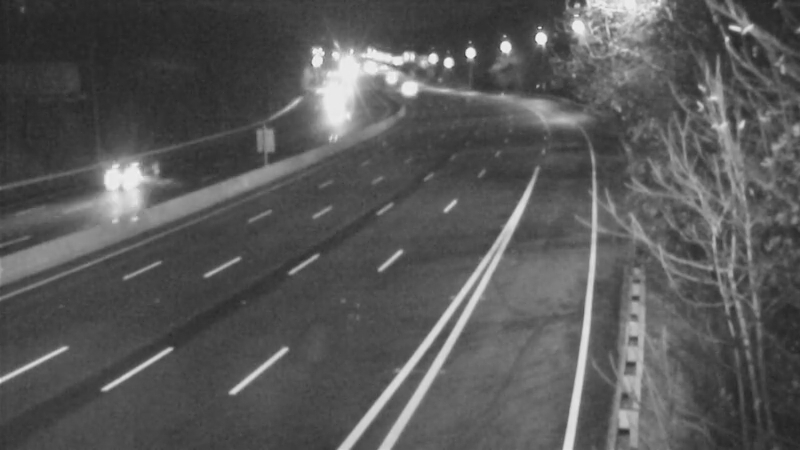vehicle: (103, 128, 183, 208), (387, 63, 437, 113)
